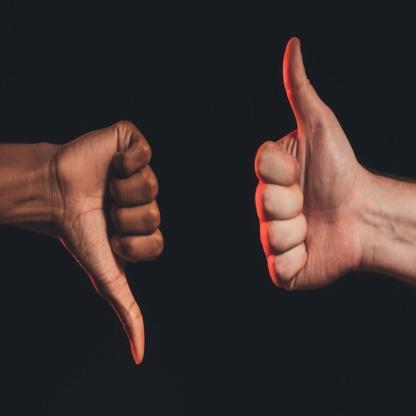thumb_down: (50, 115, 166, 368)
thumb_up: (250, 33, 367, 297)
